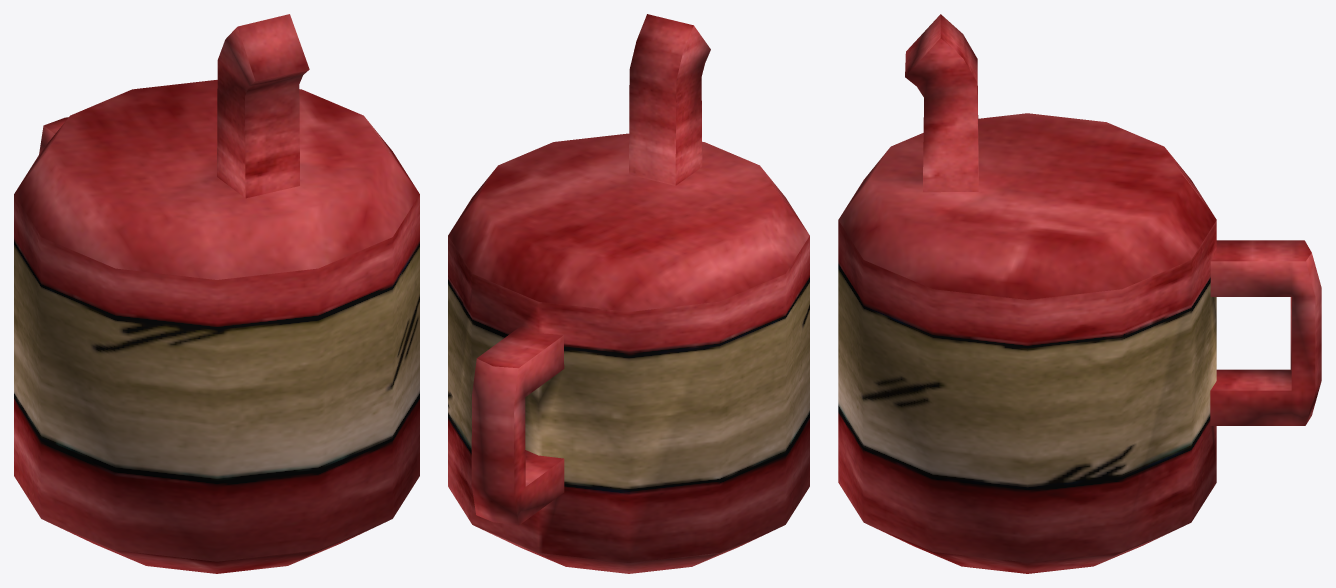
The model's file is canyster.glb.
3 views of the same model, side by side, from view 1: azimuth 30°, elevation 25°; view 2: azimuth 150°, elevation 25°; view 3: azimuth 270°, elevation 25° (orthographic). The views are drawn at different scales.
Visible parts, largest first — view 1: Canyster; view 2: Canyster; view 3: Canyster.
Boxes of the visible parts, box(x1,y1,x2,y2) form: Canyster: box(14, 14, 419, 573); Canyster: box(448, 14, 809, 573); Canyster: box(838, 14, 1321, 573).
Size of the model in its own units: 0.8154 by 1.17 by 1.04.
1 material, 1 textured.
